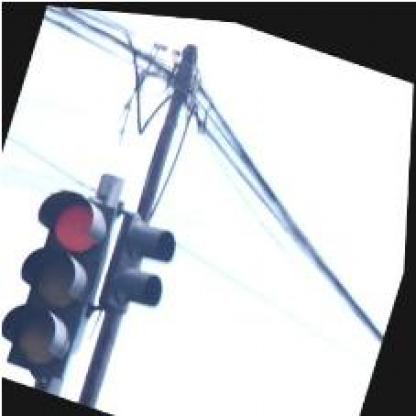red: (1, 178, 120, 386)
